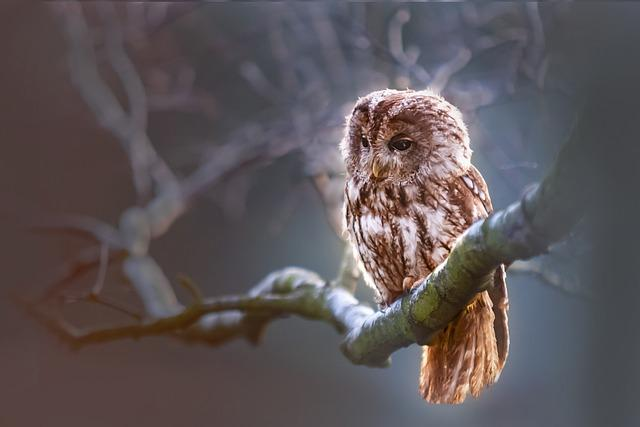bird: (341, 90, 492, 307), (419, 267, 508, 403)
